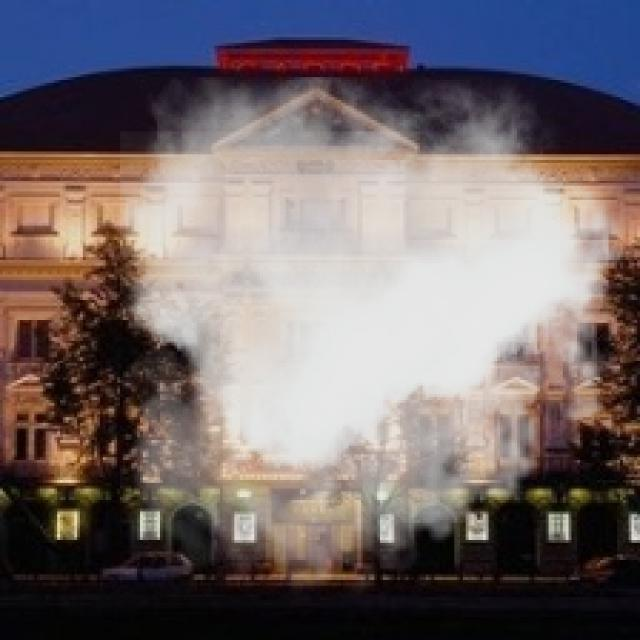smoke: (120, 77, 637, 609)
